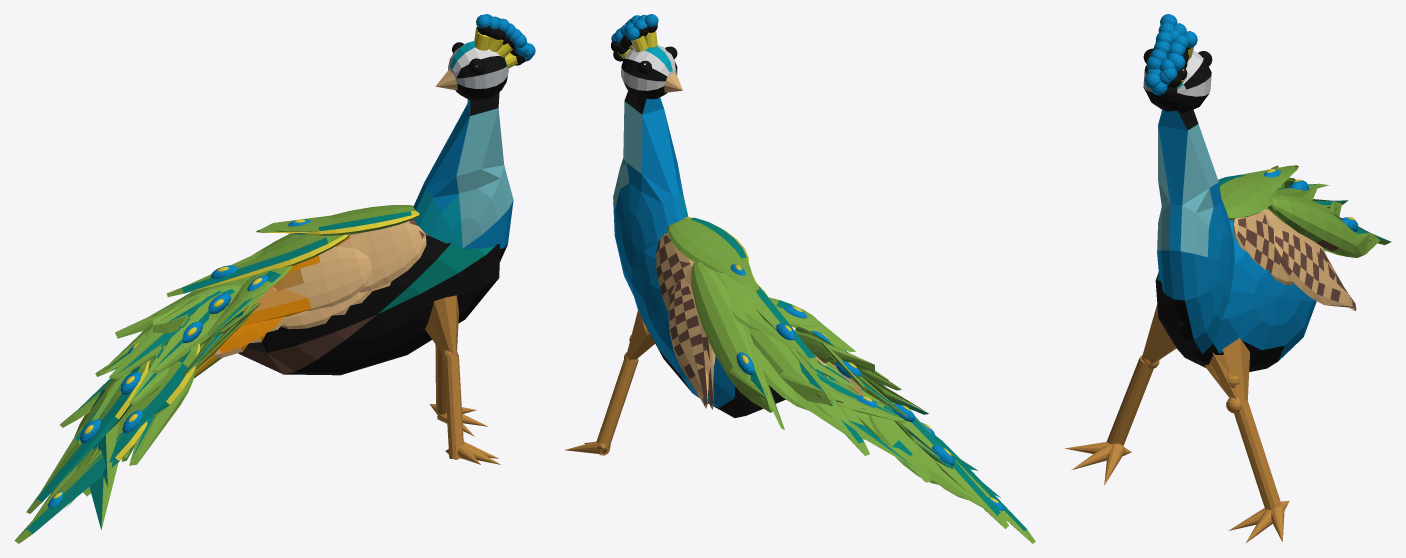
The model's file is peacock.glb.
The picture shows the model from 3 angles, left to right: view 1: azimuth 30°, elevation 25°; view 2: azimuth 150°, elevation 25°; view 3: azimuth 270°, elevation 25°; orthographic projection. The views are drawn at different scales.
Visible parts, largest first — view 1: node_MeshObject-404075328-PolyPaper5, node_MeshObject23612608-PolyPaper18, node_MeshObject-922795392-PolyPaper19, node_MeshObject-1287627840-PolyPaper20, node_MeshObject-715481536-PolyPaper23; view 2: node_MeshObject-922795392-PolyPaper19, node_MeshObject23612608-PolyPaper18, node_MeshObject-404075328-PolyPaper5, node_MeshObject-1287627840-PolyPaper20, node_MeshObject-715481536-PolyPaper23; view 3: node_MeshObject-404075328-PolyPaper5, node_MeshObject23612608-PolyPaper18, node_MeshObject-922795392-PolyPaper19, node_MeshObject-1287627840-PolyPaper20, node_MeshObject-715481536-PolyPaper23.
Boxes of the visible parts, box(x1,y1,x2,y2) form: node_MeshObject-404075328-PolyPaper5: box(48, 14, 513, 508); node_MeshObject23612608-PolyPaper18: box(26, 26, 525, 513); node_MeshObject-922795392-PolyPaper19: box(59, 233, 446, 461); node_MeshObject-1287627840-PolyPaper20: box(14, 42, 500, 543); node_MeshObject-715481536-PolyPaper23: box(476, 14, 535, 65); node_MeshObject-922795392-PolyPaper19: box(596, 262, 954, 482); node_MeshObject23612608-PolyPaper18: box(617, 25, 1008, 528); node_MeshObject-404075328-PolyPaper5: box(611, 19, 1004, 510); node_MeshObject-1287627840-PolyPaper20: box(564, 47, 1035, 543); node_MeshObject-715481536-PolyPaper23: box(611, 14, 658, 61); node_MeshObject-404075328-PolyPaper5: box(1106, 23, 1358, 445); node_MeshObject23612608-PolyPaper18: box(1155, 41, 1356, 371); node_MeshObject-922795392-PolyPaper19: box(1204, 165, 1391, 509); node_MeshObject-1287627840-PolyPaper20: box(1064, 48, 1289, 543); node_MeshObject-715481536-PolyPaper23: box(1144, 14, 1190, 99).
Bounding box in the file's own units: 0.3643 × 0.3206 × 0.1876.
